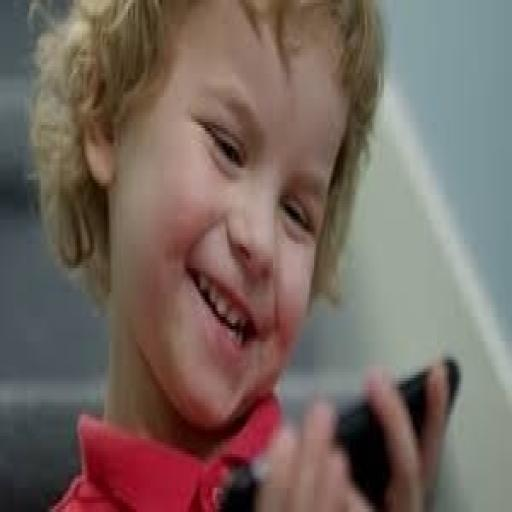texting: (26, 0, 458, 509)
